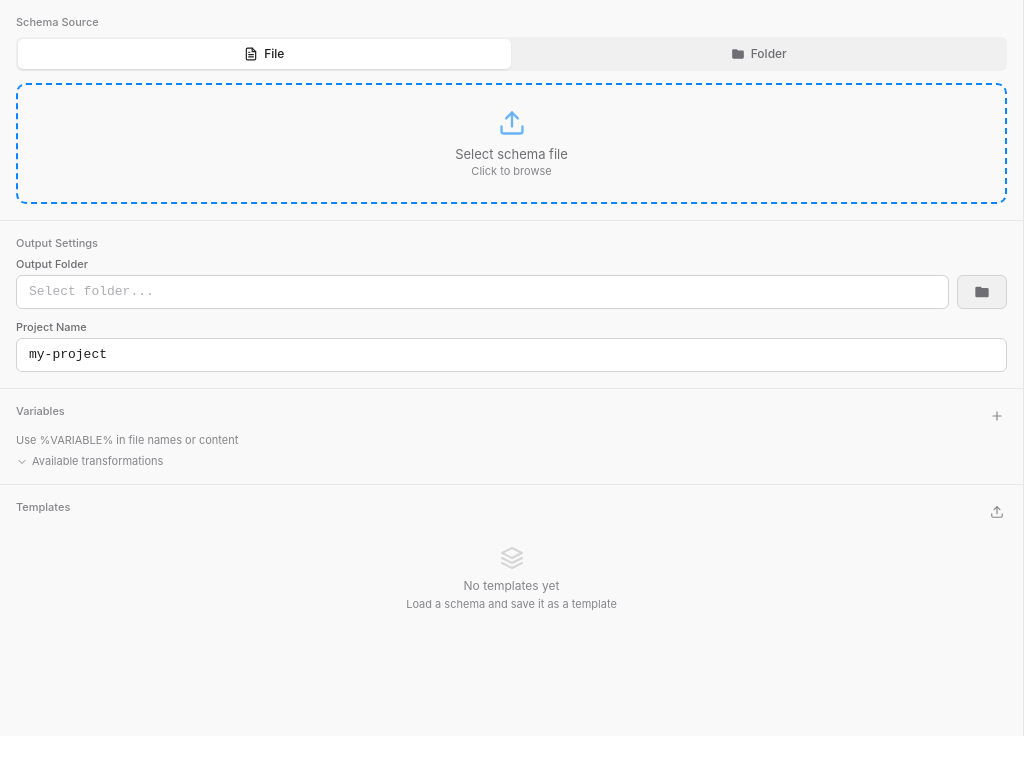
Scenario: LeftPanel › Templates Section › import/export buttons › opens import modal when import button is clicked
What coordinates should you click on to do the following:
click the button titled "Import templates"
I would click on:
 (997, 512)
Its box is [987, 502, 1007, 522].
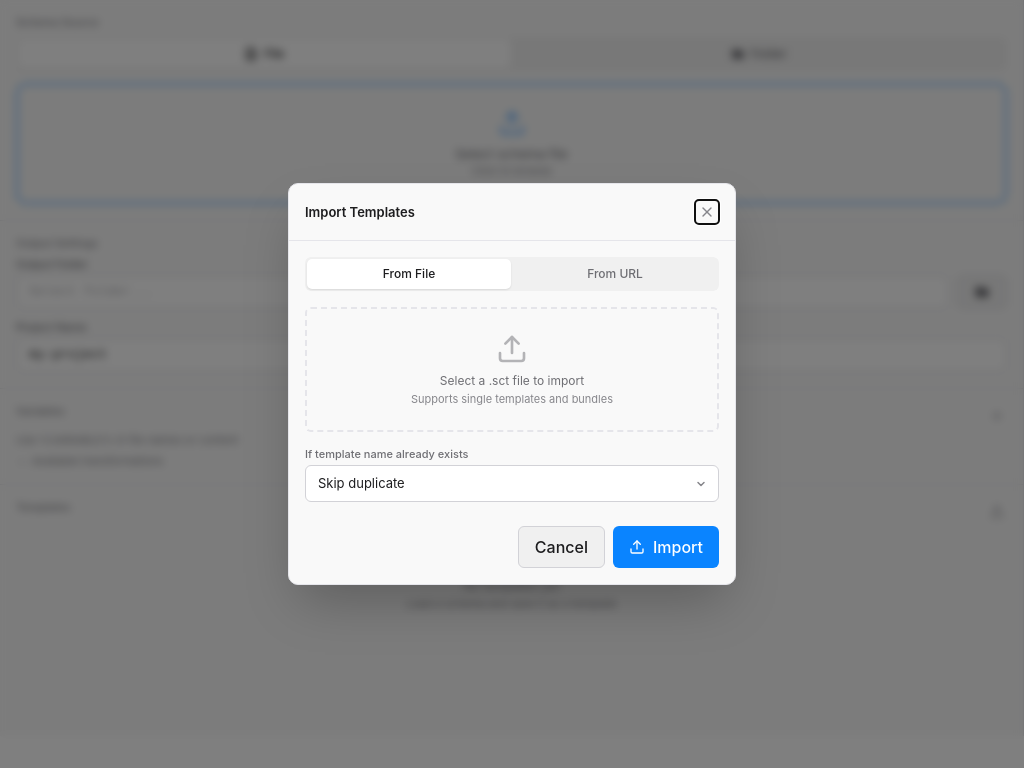
Check: the dialog is shown
Check: the heading "Import Templates" is shown, box [305, 203, 415, 221]
